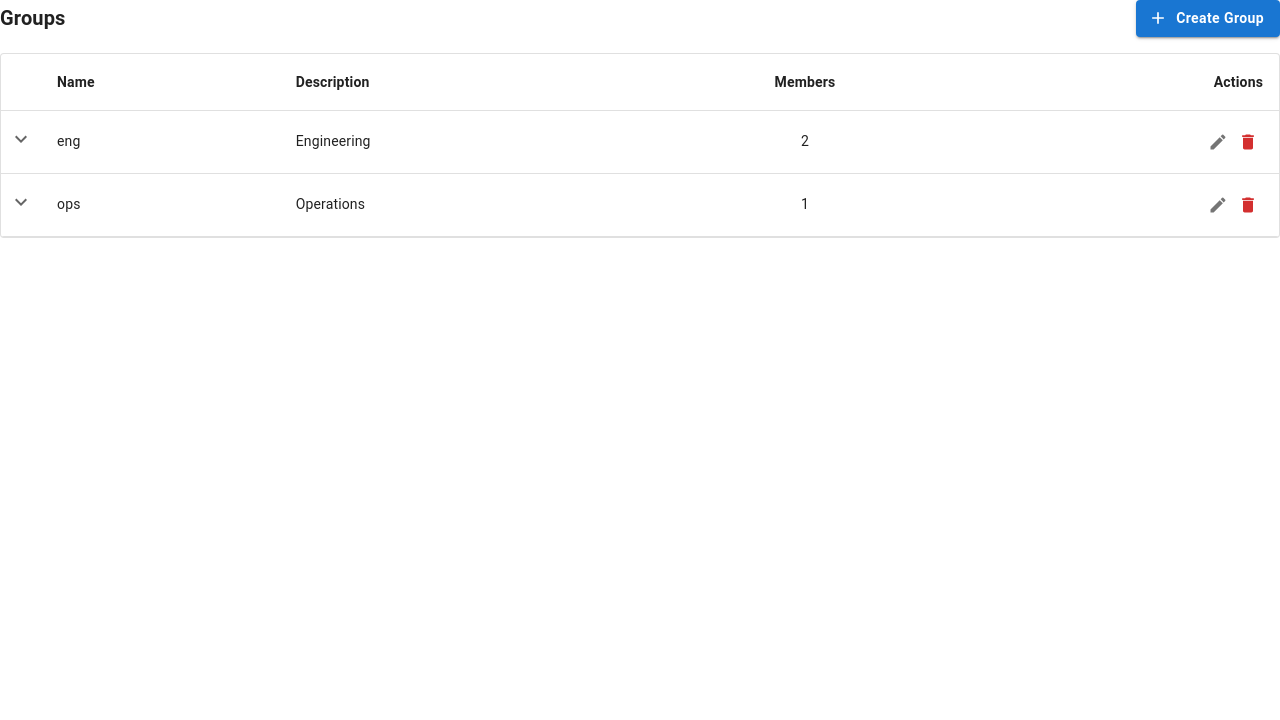
Test: AdminGroups › Delete group › clears the expanded row when the deleted group was expanded
Click the text "eng" at (160, 142), box x1=41 y1=110 x2=280 y2=173
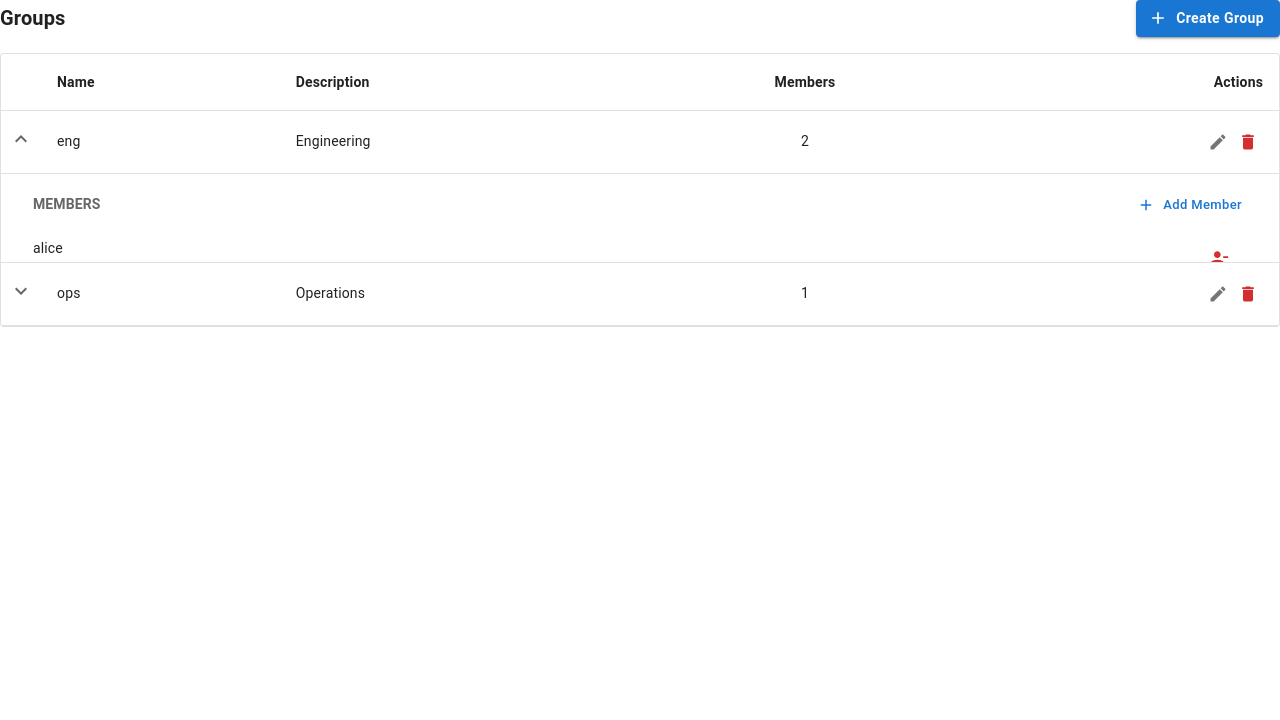
Check: the text "alice" is shown, box x1=33 y1=240 x2=63 y2=256
Click the button named "delete group" in the row of "Engineering" at (1248, 142), box x1=1233 y1=126 x2=1263 y2=156
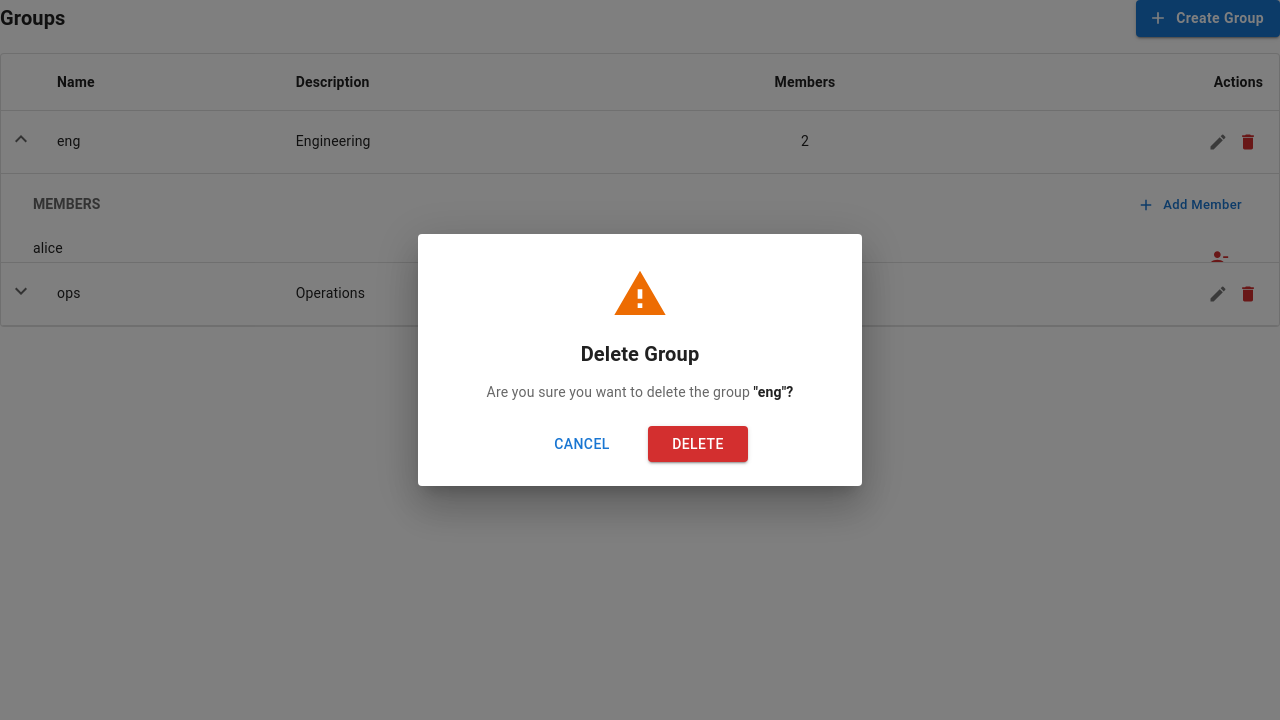
Check: the heading "Delete Group" is shown, box x1=581 y1=342 x2=699 y2=366
Click the button "Delete" at (698, 444), box x1=648 y1=426 x2=748 y2=462
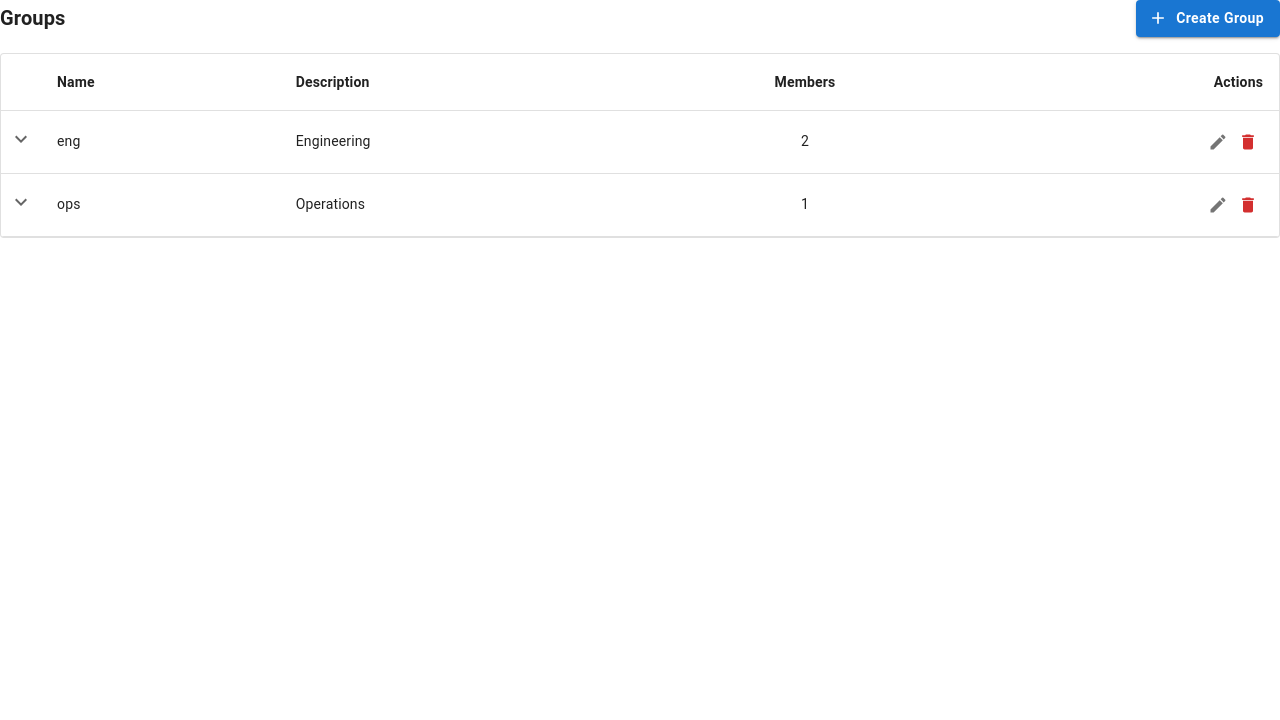
Check: the text "alice" is gone
